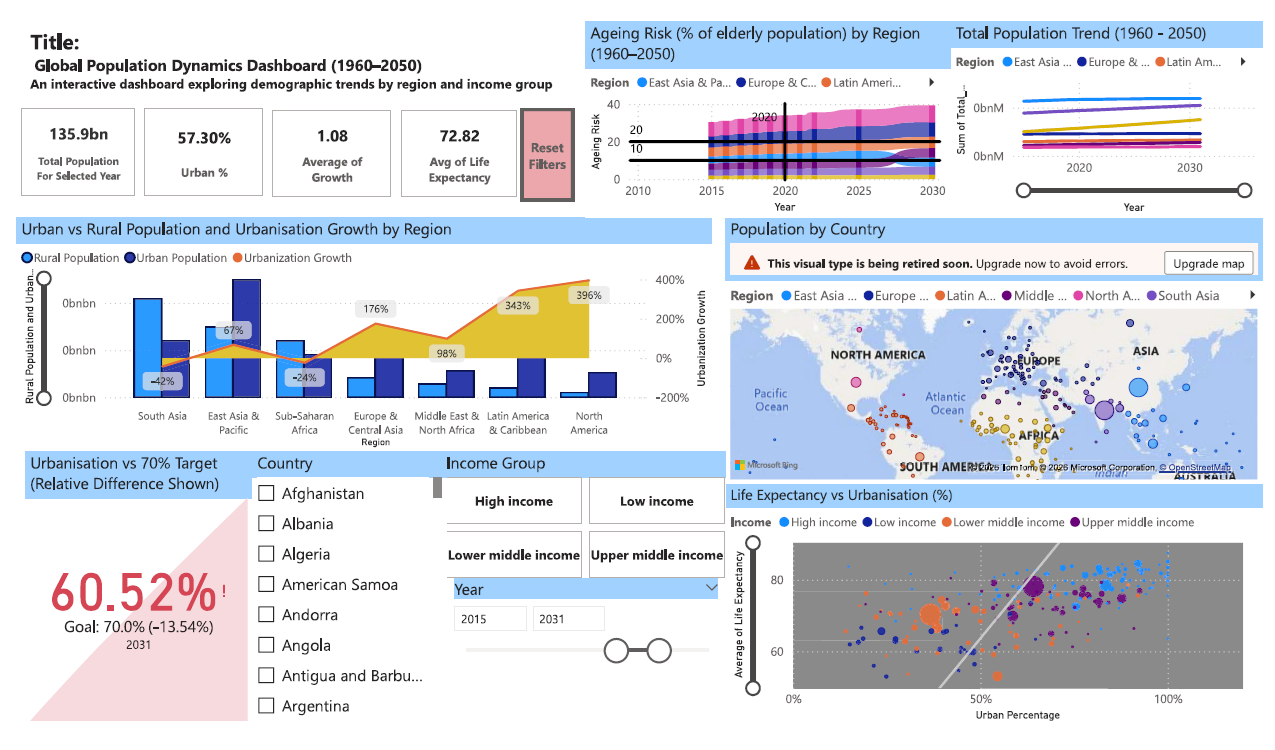

The page's visual inventory and layout, read from the dashboard file:
{"tool":"powerbi","page":{"name":"Page 1","canvas":[1280,720],"ordinal":0},"visuals":[{"type":"textbox","box":[9.4,0,560.5,83.2],"z":0},{"type":"cardVisual","title":"Total Population in Selected Year","fields":{"Data":["Sum(Population Figures & Projections.Total_Pop)"]},"box":[0,83.3,125.7,99.9],"z":1000},{"type":"cardVisual","title":"Urban Percentage","fields":{"Data":["Population Figures & Projections.Urban_Perc"]},"box":[125.7,83.3,130.2,99.9],"z":2000},{"type":"cardVisual","title":"Average of Growth","fields":{"Data":["Population Figures & Projections.Avg_Growth"]},"box":[255.9,84.8,131.7,98.4],"z":3000},{"type":"cardVisual","title":"Average of Life Expectancy","fields":{"Data":["Population Figures & Projections.Avg_LifeExp"]},"box":[387.6,84.8,127.2,98.4],"z":4000},{"type":"map","title":"Population by Country","fields":{"Category":["Population Figures & Projections.Country"],"Size":["Avg(Population Figures & Projections.Total_Pop)"],"Series":["Population Figures & Projections.Region"]},"box":[723.8,199.9,548.1,272.6],"z":5000},{"type":"lineClusteredColumnComboChart","title":"Urban vs Rural Population and Urbanisation Growth by Region","fields":{"Category":["Population Figures & Projections.Region"],"Y":["Sum(Population Figures & Projections.Rural_Pop)","Sum(Population Figures & Projections.Urban_Pop)"],"Y2":["Population Figures & Projections.Urbanization_Growth"]},"box":[0,199.9,710.2,239.2],"z":6000},{"type":"scatterChart","title":"Life Expectancy vs Urbanisation (%)","fields":{"X":["Population Figures & Projections.Urban_Perc"],"Y":["Avg(Population Figures & Projections.Life_Expectancy)"],"Size":["Sum(Population Figures & Projections.Total_Pop)"],"Series":["Population Figures & Projections.Income_Group"],"Category":["Population Figures & Projections.Country"]},"box":[723.8,472.4,548.1,246.8],"z":7000},{"type":"actionButton","box":[514.8,87.8,54.5,95.4],"z":8000},{"type":"kpi","title":"Urbanisation vs 70% Target (Relative Difference Shown)","fields":{"Indicator":["Population Figures & Projections.Urban_Perc"],"TrendLine":["Population Figures & Projections.Year"],"Goal":["Population Figures & Projections.Urban_Target_70"]},"box":[9.1,439.1,231.7,280.1],"z":9000},{"type":"advancedSlicerVisual","title":"Income Group","fields":{"Values":["Population Figures & Projections.Income_Group"]},"box":[439.1,439.1,284.7,128.7],"z":10000},{"type":"listSlicer","title":"Country","fields":{"Values":["Population Figures & Projections.Country"]},"box":[241,439,198,280],"z":11000},{"type":"lineChart","title":"Total Population Trend (1960 - 2050)","fields":{"Category":["Population Figures & Projections.Year"],"Series":["Population Figures & Projections.Region"],"Y":["Sum(Population Figures & Projections.Total_Pop)"]},"box":[953.9,0,318,199.9],"z":12000},{"type":"ribbonChart","title":"Ageing Risk (% of elderly population) by Region (1960–2050)","fields":{"Category":["Population Figures & Projections.Year"],"Y":["Population Figures & Projections.Ageing_Risk"],"Series":["Population Figures & Projections.Region"]},"box":[581.5,0,372.5,199.9],"z":13000},{"type":"slicer","fields":{"Values":["Population Figures & Projections.Year"]},"box":[439.1,567.8,284.7,151.4],"z":14000}]}

Visuals, with their boxes on the page's 1280x720 design canvas (x1, y1, x2, y2). These are canvas units, not pixel positions in the 1275x750 screenshot, which may show the page scaled, cropped or inside an application window:
textbox: <bbox>9, 0, 570, 83</bbox>
"Total Population in Selected Year" cardVisual: <bbox>0, 83, 126, 183</bbox>
"Urban Percentage" cardVisual: <bbox>126, 83, 256, 183</bbox>
"Average of Growth" cardVisual: <bbox>256, 85, 388, 183</bbox>
"Average of Life Expectancy" cardVisual: <bbox>388, 85, 515, 183</bbox>
"Population by Country" map: <bbox>724, 200, 1272, 472</bbox>
"Urban vs Rural Population and Urbanisation Growth by Region" lineClusteredColumnComboChart: <bbox>0, 200, 710, 439</bbox>
"Life Expectancy vs Urbanisation (%)" scatterChart: <bbox>724, 472, 1272, 719</bbox>
actionButton: <bbox>515, 88, 569, 183</bbox>
"Urbanisation vs 70% Target (Relative Difference Shown)" kpi: <bbox>9, 439, 241, 719</bbox>
"Income Group" advancedSlicerVisual: <bbox>439, 439, 724, 568</bbox>
"Country" listSlicer: <bbox>241, 439, 439, 719</bbox>
"Total Population Trend (1960 - 2050)" lineChart: <bbox>954, 0, 1272, 200</bbox>
"Ageing Risk (% of elderly population) by Region (1960–2050)" ribbonChart: <bbox>582, 0, 954, 200</bbox>
slicer - Population Figures & Projections.Year: <bbox>439, 568, 724, 719</bbox>
